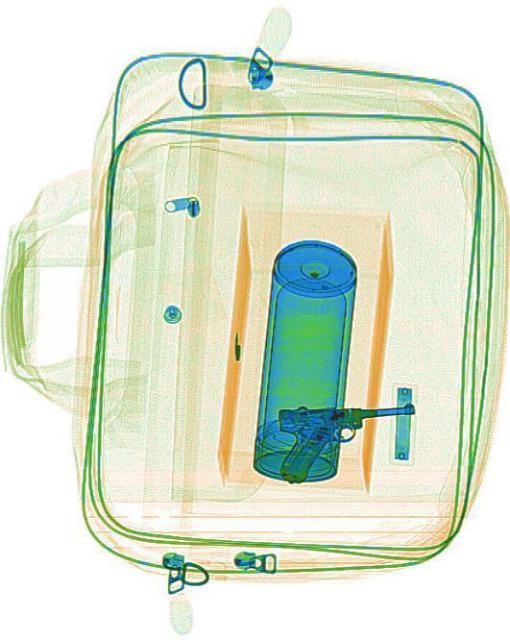Gun: (273, 402, 412, 483)
